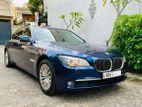car: (4, 26, 127, 95)
